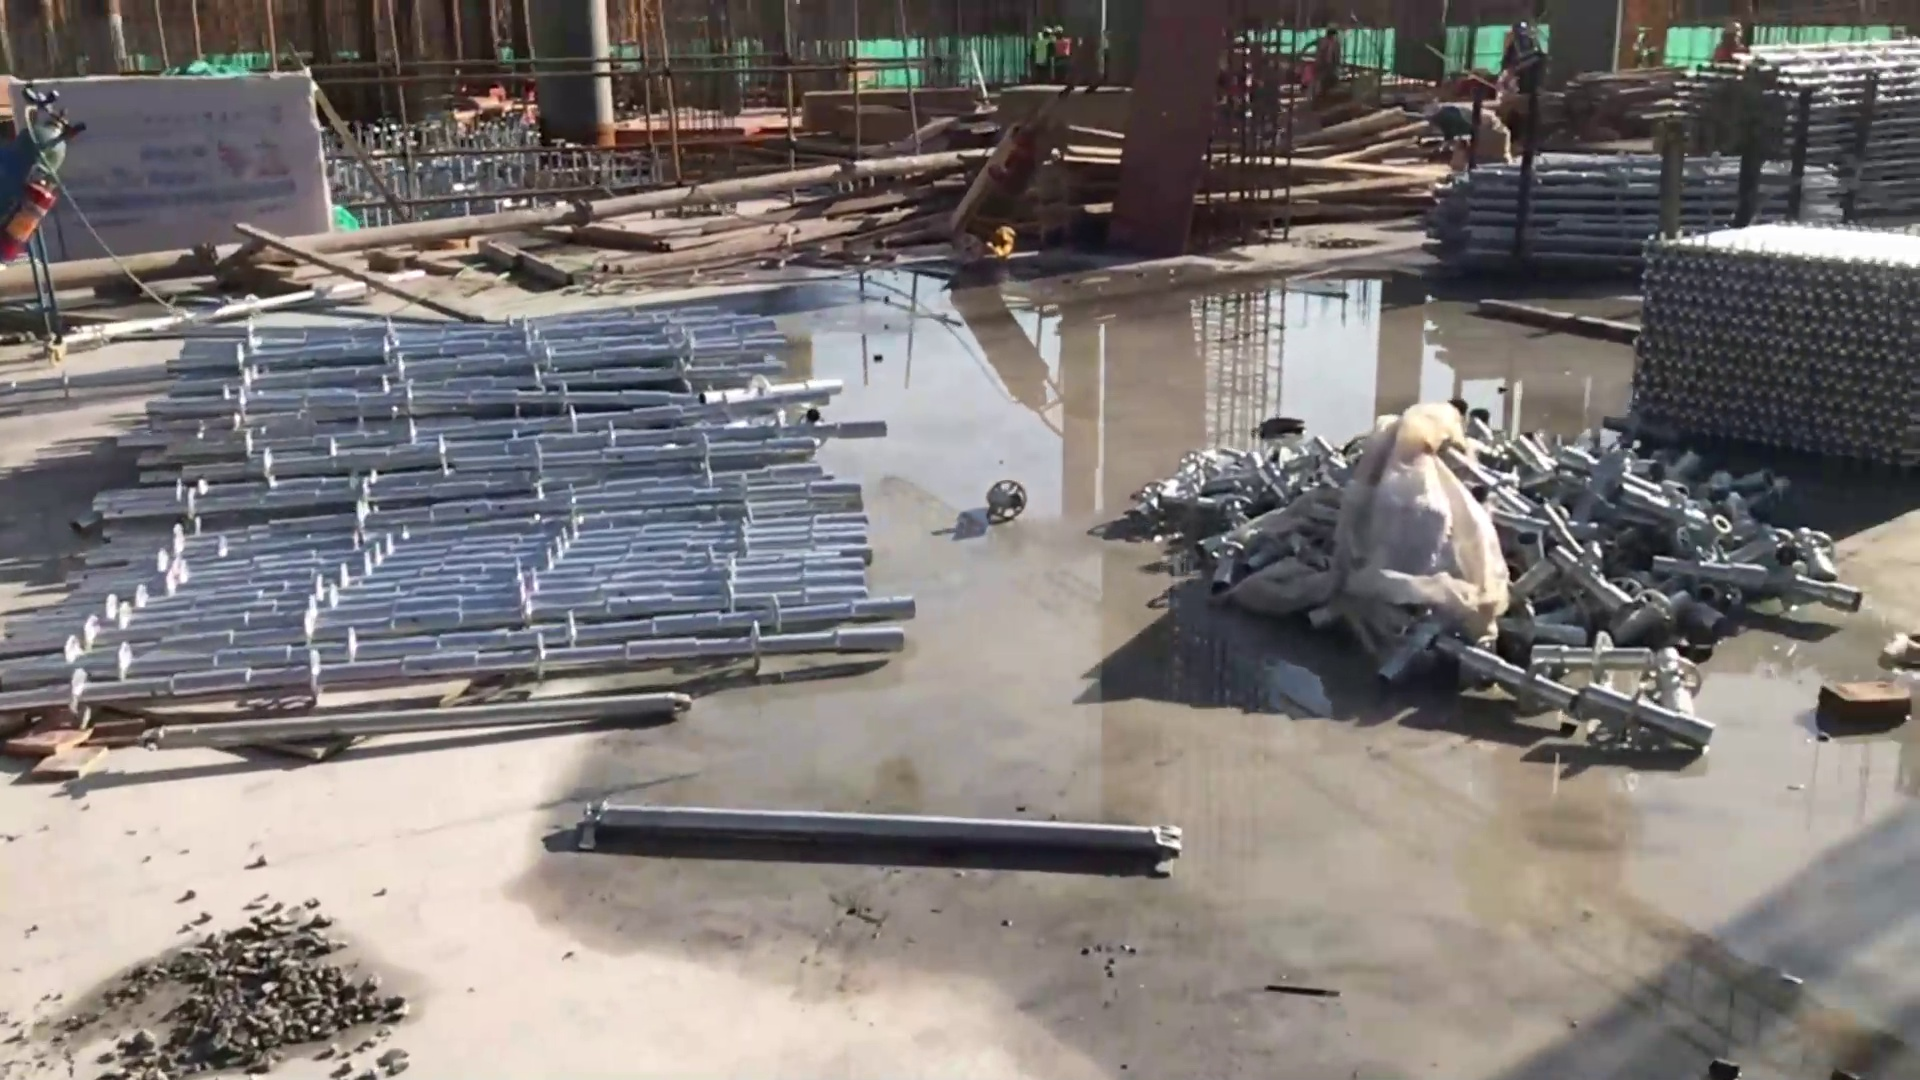scaffold: (20, 313, 916, 700), (1629, 227, 1920, 458), (1424, 149, 1847, 280), (1669, 40, 1917, 211)
